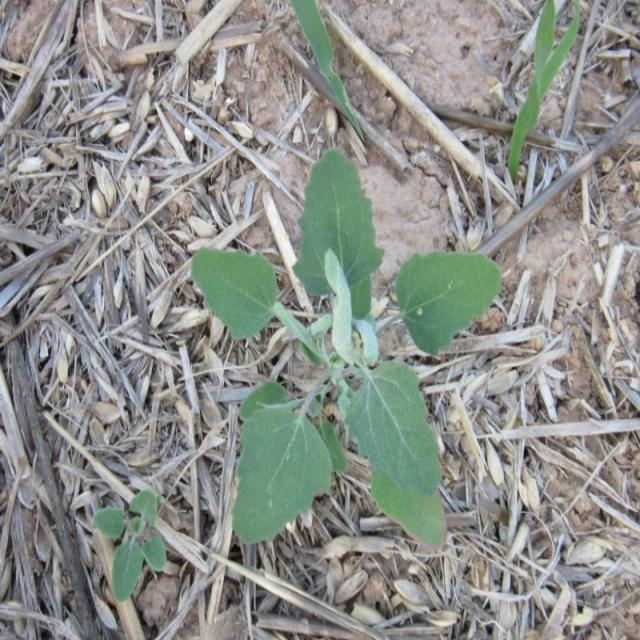ca: (186, 150, 503, 553)
